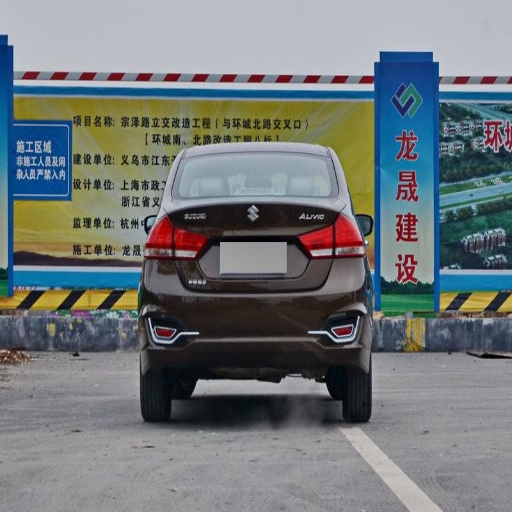back_bumper: (137, 259, 376, 368)
